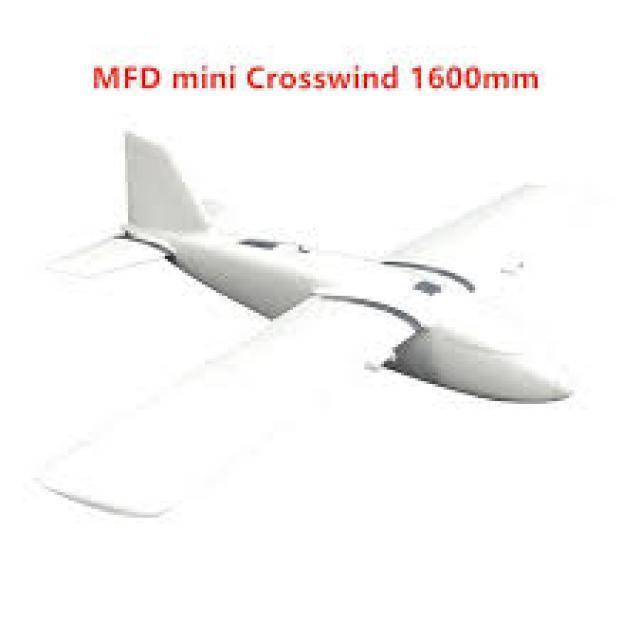iha: (30, 129, 581, 518)
